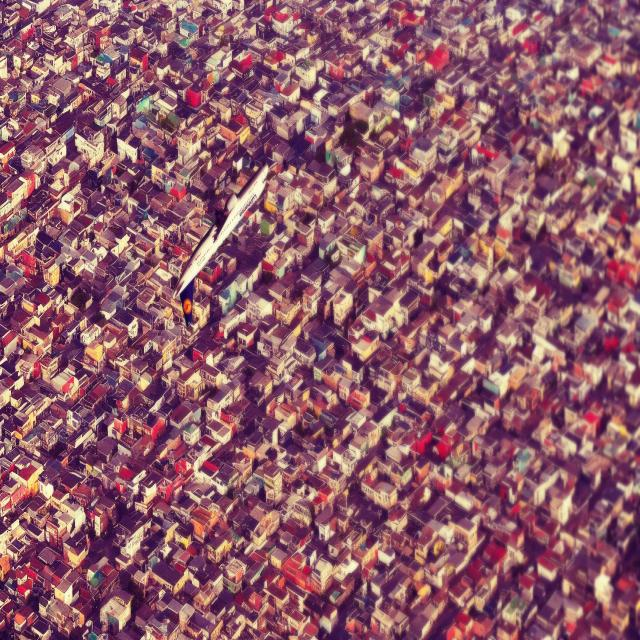airplane: (170, 160, 269, 322)
